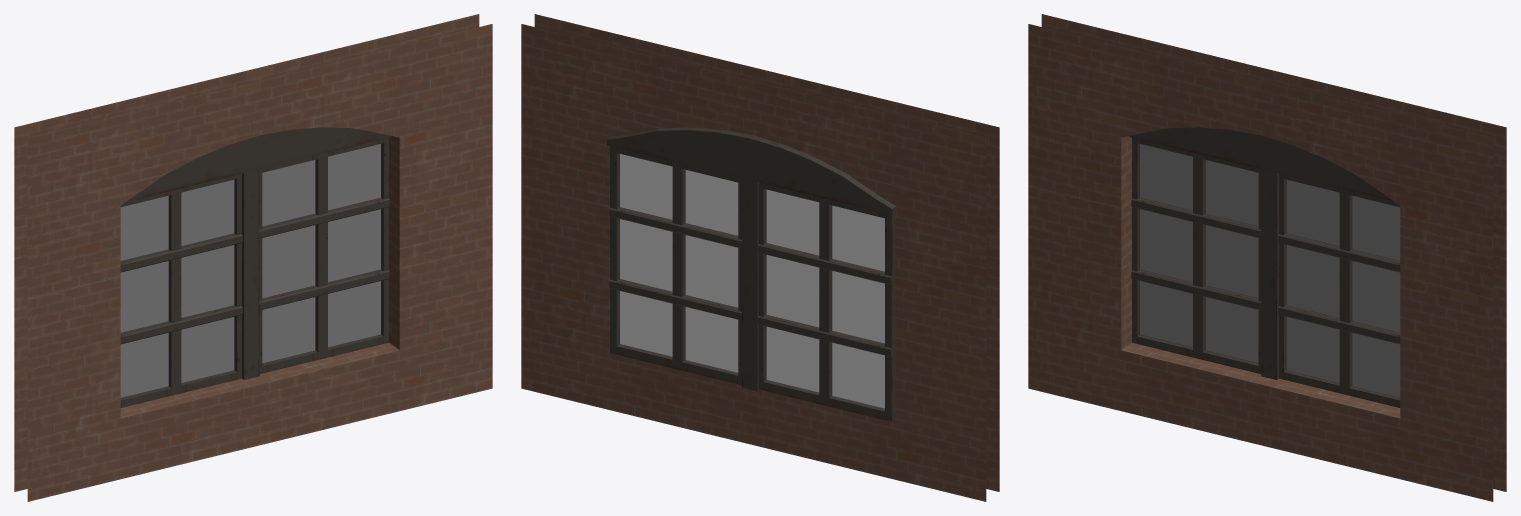
Rendered from brick_window_curveddouble.glb.
3 renders of one model, left to right at view 1: azimuth 30°, elevation 25°; view 2: azimuth 150°, elevation 25°; view 3: azimuth 330°, elevation 25°, orthographic.
Parts seen in each view (by area): view 1: Brick_Window_CurvedDouble; view 2: Brick_Window_CurvedDouble; view 3: Brick_Window_CurvedDouble.
Boxes of the visible parts, <box> form: Brick_Window_CurvedDouble: <box>14,14,492,501</box>; Brick_Window_CurvedDouble: <box>521,14,999,501</box>; Brick_Window_CurvedDouble: <box>1028,14,1506,501</box>.
Bounding box in the file's own units: 4 × 3 × 0.2605.
Materials: 5 (3 with a texture image).
